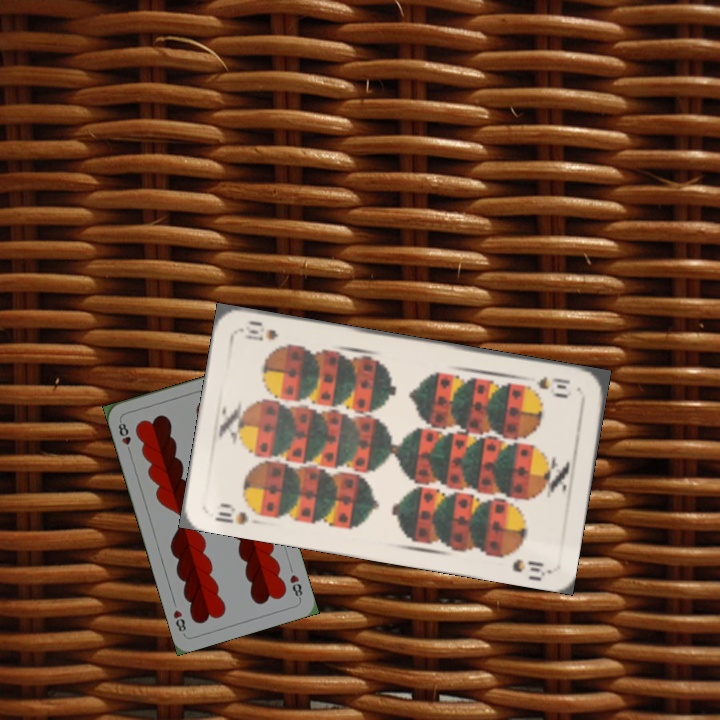H8: (114, 416, 134, 456), (286, 570, 305, 602)
S10: (211, 499, 251, 528), (533, 372, 574, 398)
